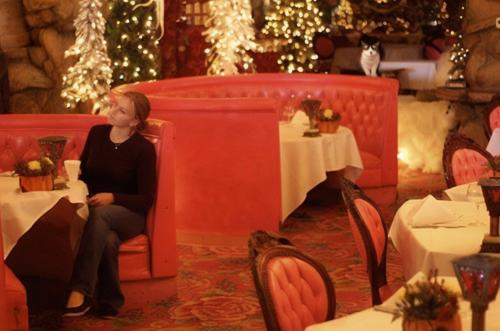cat: (357, 40, 381, 72)
chair: (249, 229, 337, 331), (341, 178, 408, 308), (443, 133, 498, 190), (485, 93, 500, 141), (316, 31, 338, 63), (362, 35, 385, 60), (421, 42, 446, 62)
diningtable: (305, 275, 500, 331), (280, 119, 366, 226), (386, 199, 500, 276), (1, 170, 93, 262), (447, 179, 500, 203)
person: (63, 89, 159, 322)
person/foot: (62, 302, 91, 317), (101, 308, 120, 320)
person/hand: (85, 193, 114, 207)
person/head: (107, 93, 149, 126)
sofa: (107, 72, 401, 248), (1, 113, 180, 331)
